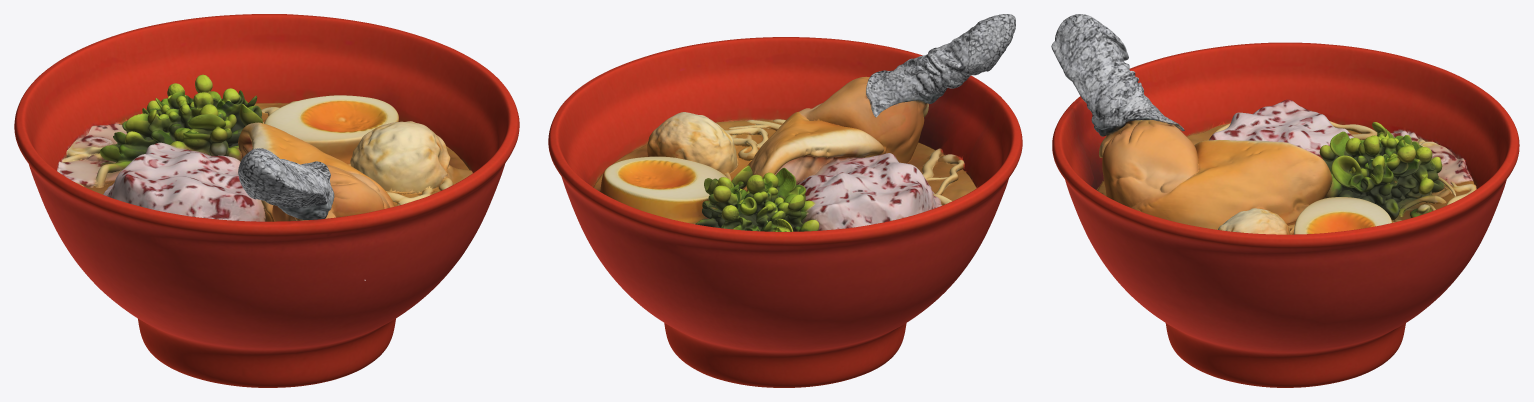
The model's file is ShoyuRamen.glb.
3 views of the same model, side by side, from view 1: azimuth 30°, elevation 25°; view 2: azimuth 150°, elevation 25°; view 3: azimuth 270°, elevation 25° (orthographic). The views are drawn at different scales.
Parts seen in each view (by area): view 1: tripo_node_4123fc08-922e-4ebd-8895-63d18a76857b; view 2: tripo_node_4123fc08-922e-4ebd-8895-63d18a76857b; view 3: tripo_node_4123fc08-922e-4ebd-8895-63d18a76857b.
Part boxes in pixels (x1,y1,x2,y2): tripo_node_4123fc08-922e-4ebd-8895-63d18a76857b: [14, 14, 519, 387]; tripo_node_4123fc08-922e-4ebd-8895-63d18a76857b: [548, 14, 1022, 387]; tripo_node_4123fc08-922e-4ebd-8895-63d18a76857b: [1051, 14, 1519, 387].
Size of the model in its own units: 0.2936 by 0.1893 by 0.294.
Materials: 1 (1 with a texture image).
